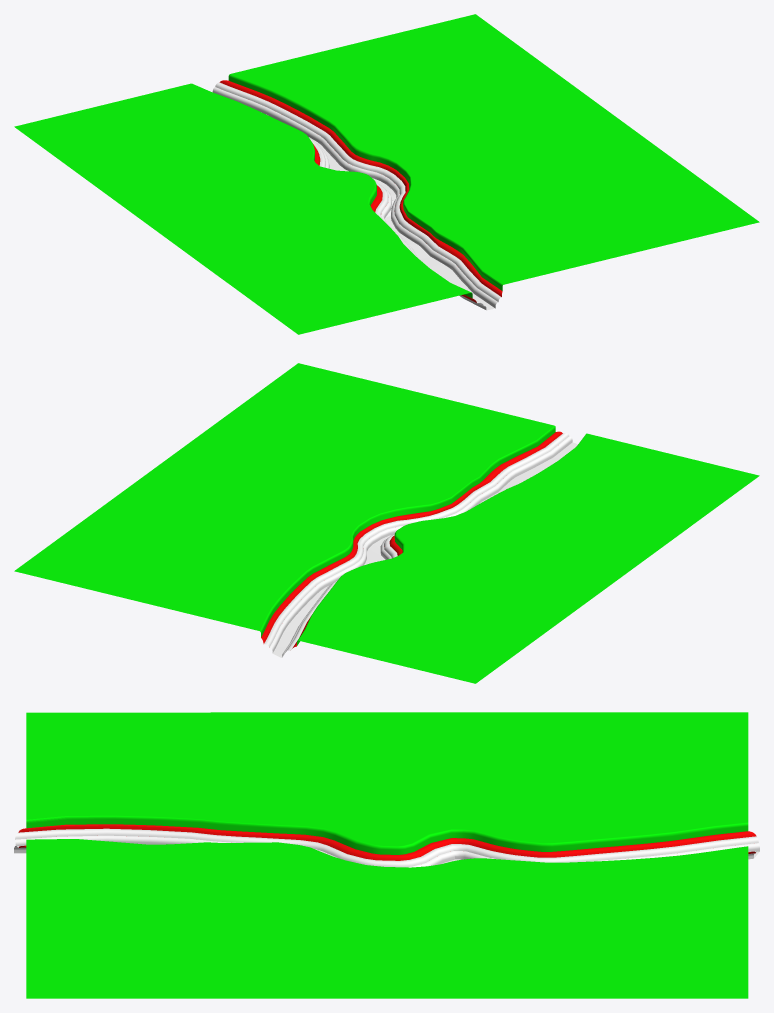
The model's file is platform.fbx.
3 views of the same model, one above another, from view 1: azimuth 30°, elevation 25°; view 2: azimuth 150°, elevation 25°; view 3: azimuth 270°, elevation 25° (orthographic). The views are drawn at different scales.
Visible parts, largest first — view 1: platform; view 2: platform; view 3: platform.
Boxes of the visible parts, <box> form: platform: <box>14,14,759,334</box>; platform: <box>14,363,759,683</box>; platform: <box>14,712,759,998</box>.
Bounding box in the file's own units: 3882 × 142 × 4279.
